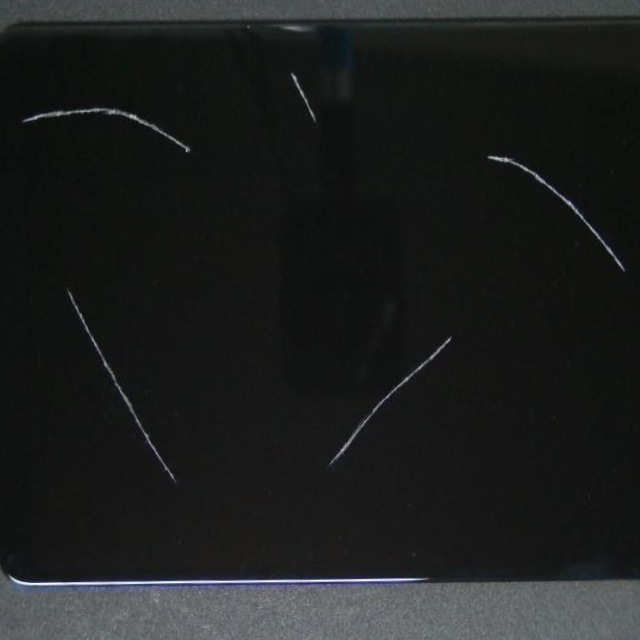scratch: (293, 43, 632, 547), (118, 272, 290, 640)
